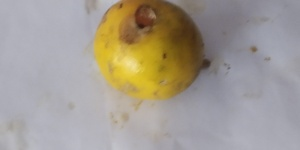BAD: (95, 1, 205, 101)
